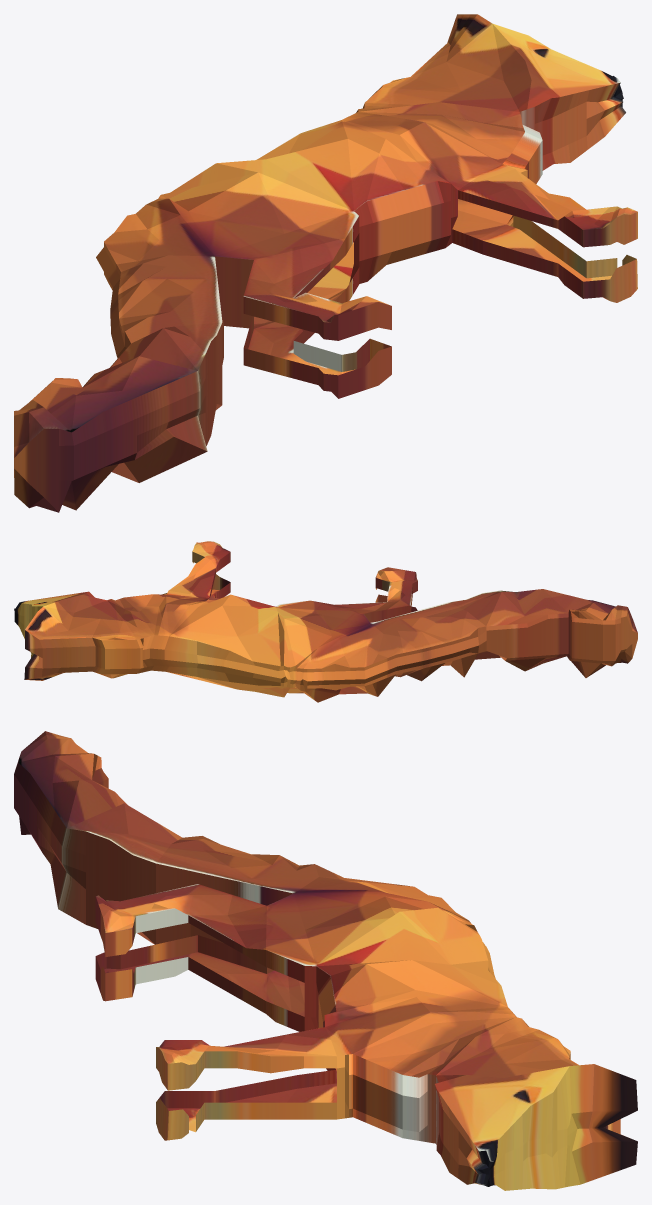
The model's file is fox3d.glb.
The picture shows the model from 3 angles, top to bottom: view 1: azimuth 30°, elevation 25°; view 2: azimuth 150°, elevation 25°; view 3: azimuth 270°, elevation 25°; orthographic projection. The views are drawn at different scales.
Visible parts, largest first — view 1: Plane.001; view 2: Plane.001; view 3: Plane.001.
Part boxes in pixels (x1=…): Plane.001: x1=14, y1=14, x2=637, y2=512; Plane.001: x1=14, y1=541, x2=637, y2=702; Plane.001: x1=14, y1=731, x2=637, y2=1190.
Bounding box in the file's own units: 1.66 × 0.2571 × 1.09.
Materials: 1 (1 with a texture image).
